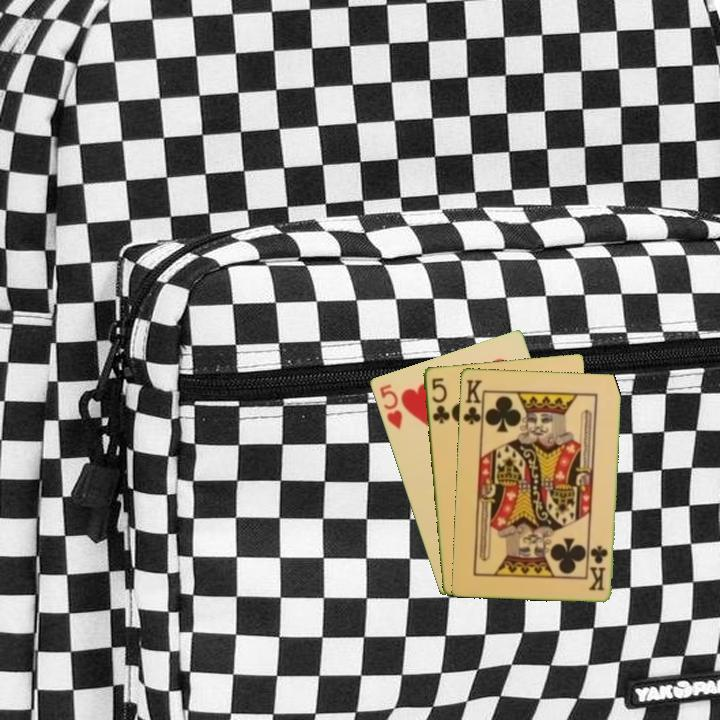5c: (428, 374, 452, 426)
5h: (376, 380, 405, 432)
Kc: (459, 376, 485, 431), (586, 542, 611, 593)
